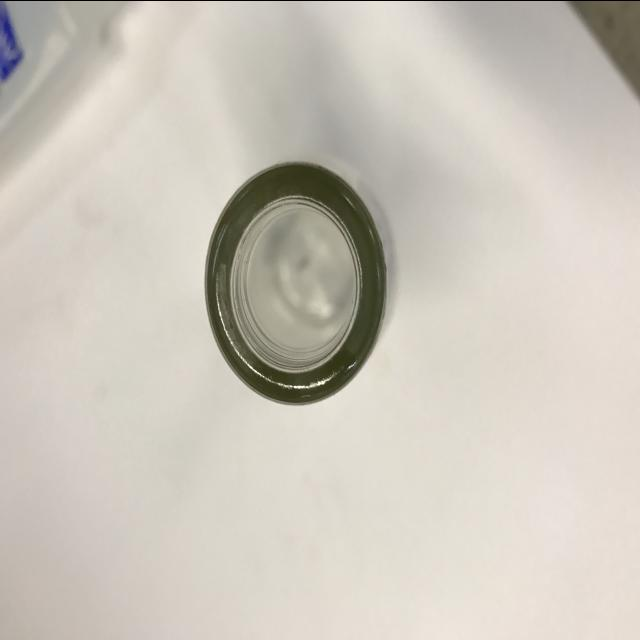glass: (204, 161, 393, 412)
